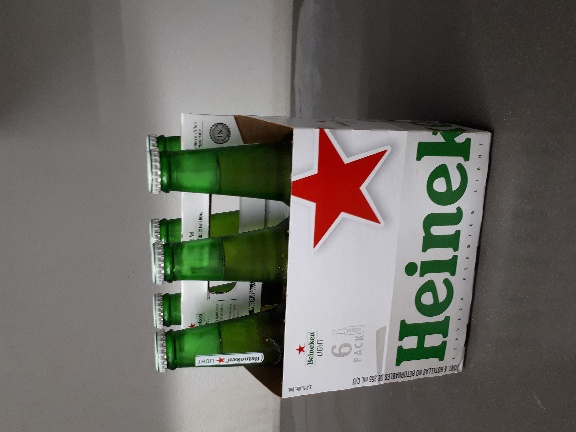HLB: (182, 83, 377, 294), (206, 224, 241, 277), (130, 247, 192, 268)
